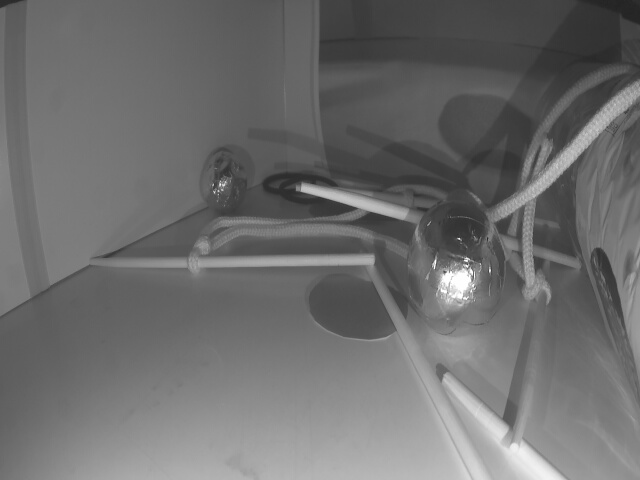Live: (407, 202, 507, 337), (202, 147, 247, 212)
